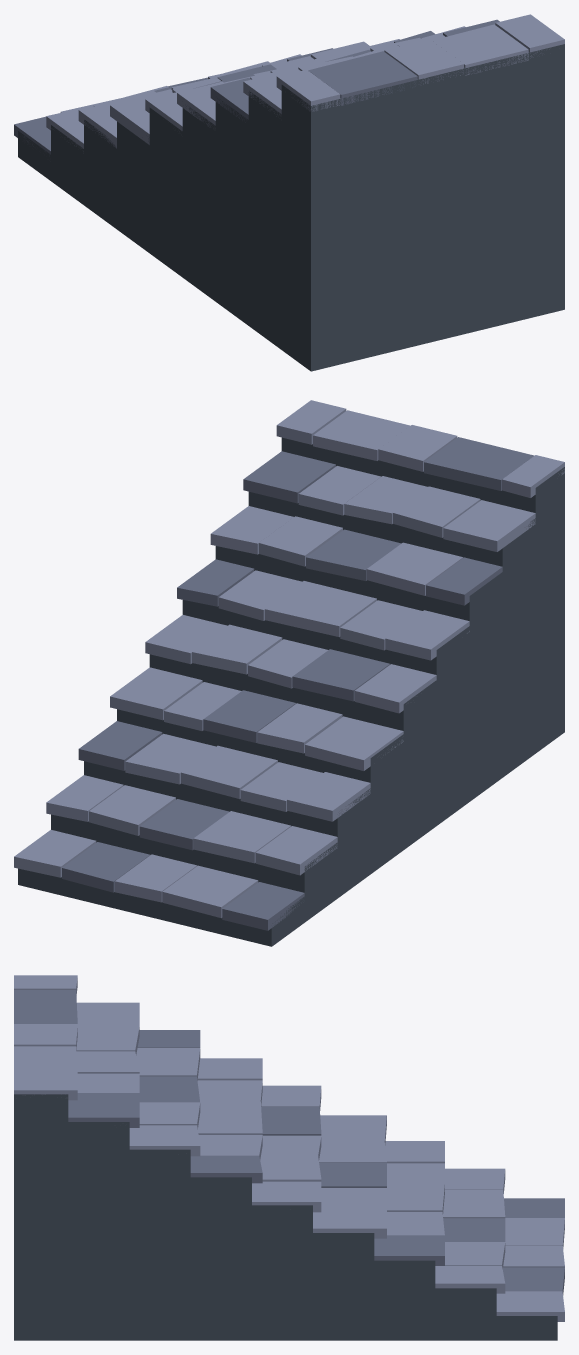
The model's file is Stairs4x2.fbx.
3 renders of one model, top to bottom at view 1: azimuth 30°, elevation 25°; view 2: azimuth 150°, elevation 25°; view 3: azimuth 270°, elevation 25°, orthographic. The views are drawn at different scales.
Parts seen in each view (by area): view 1: Stairs4x1; view 2: Stairs4x1; view 3: Stairs4x1.
Boxes of the visible parts, x1,y1,x2,y2 form: Stairs4x1: [14, 14, 564, 371]; Stairs4x1: [14, 400, 564, 946]; Stairs4x1: [14, 975, 564, 1340].
Size of the model in its own units: 2 by 2.03 by 4.05.
